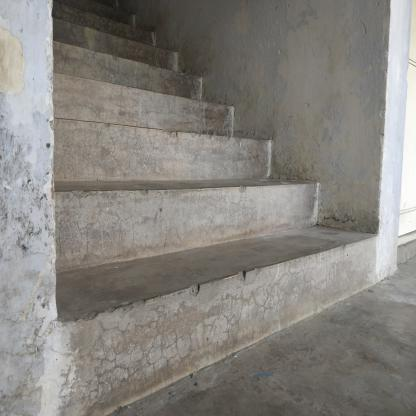stairs: (55, 72, 317, 378)
